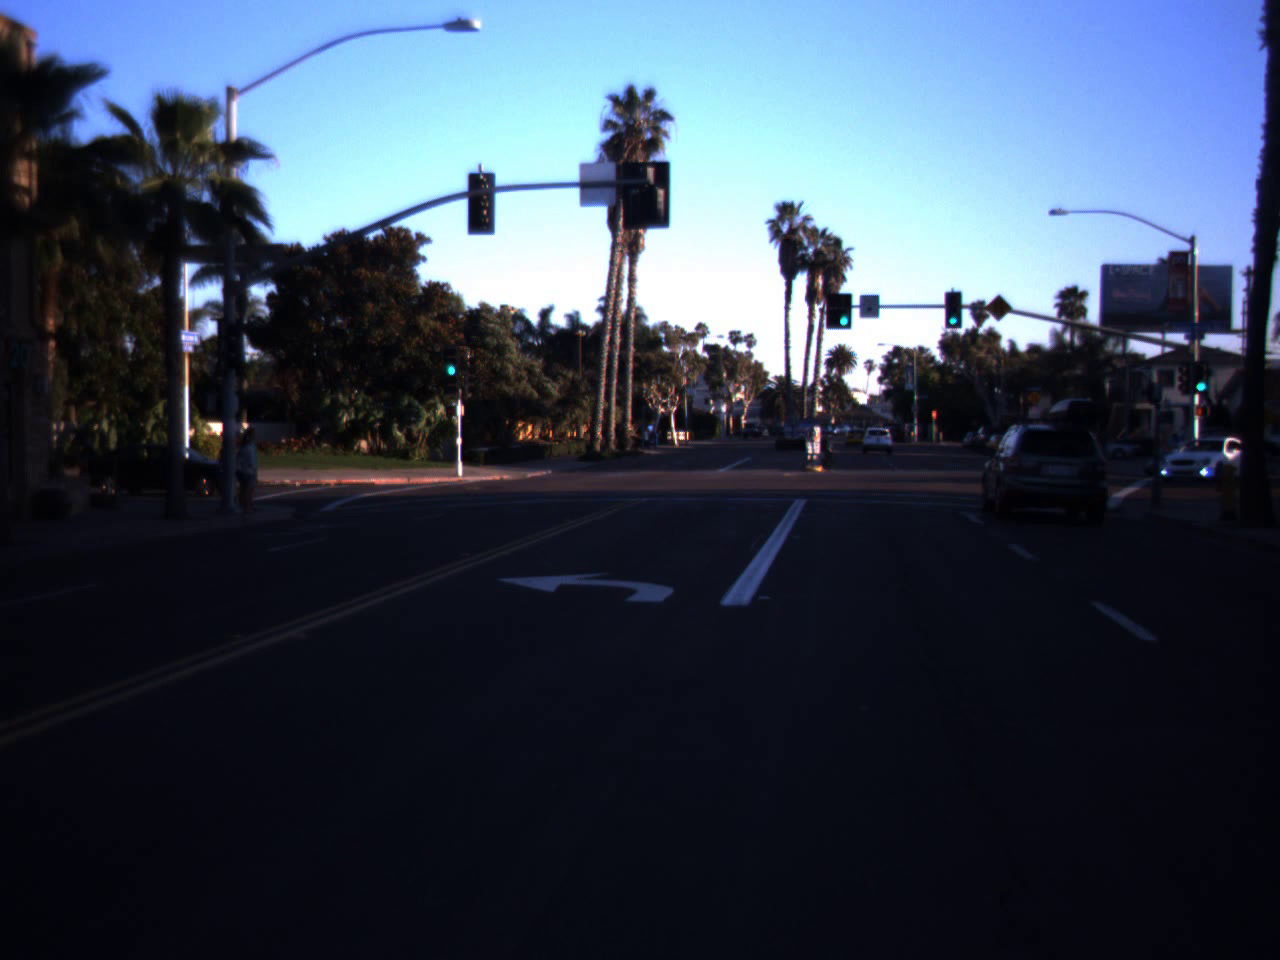go: (833, 293, 854, 328), (441, 342, 462, 377), (946, 301, 958, 325)
